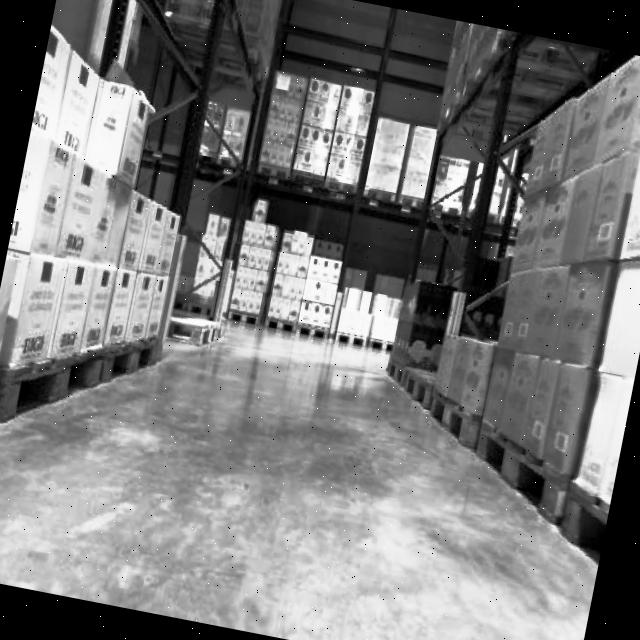ground: (0, 270, 632, 640)
pallet: (335, 20, 640, 640), (335, 349, 631, 640)
